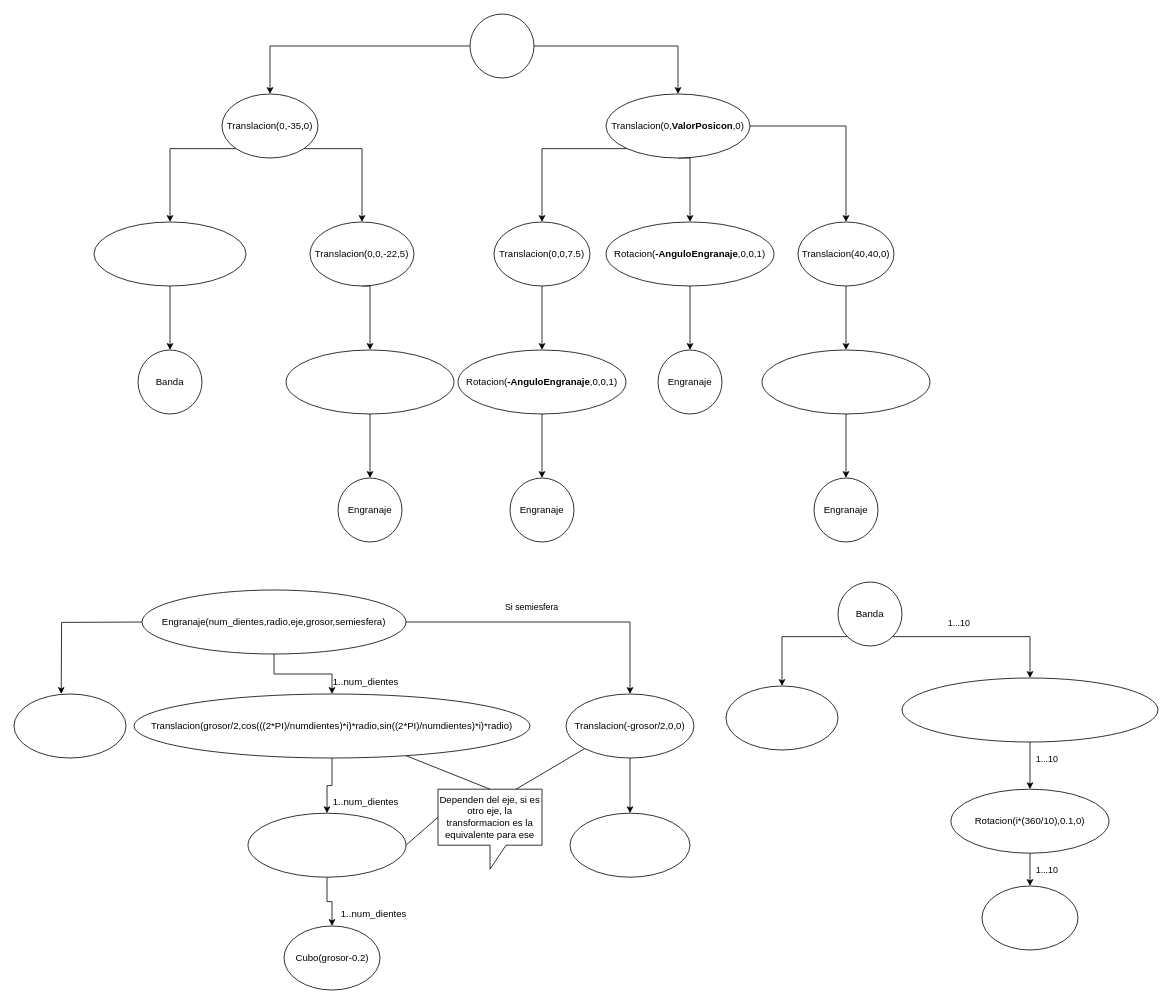
This 1172x1004 diagram has some shape labels left out. The centre of each missing label's shape, as x and y in pixels:
Cilindro(10,70,1): (781,717)
Cilindro(grosor,radio,eje): (69,725)
Cono(10,5,0): (1029,917)
Escena: (501,45)
Rotacion( -AnguloBanda ,0,1,0): (169,253)
Rotacion( -AnguloEngranaje ,0,1,0): (369,381)
Rotacion( AnguloEngranaje ,0,0,1): (845,381)
Rotacion(i*(360/numdientes),1,0,0): (326,844)
Semiesfera(radio*0.30,eje): (629,844)
Translacion(cos((2*PI)/10)*i)*70,5,-sin(((2*I)/10)*i)*70): (1029,709)
